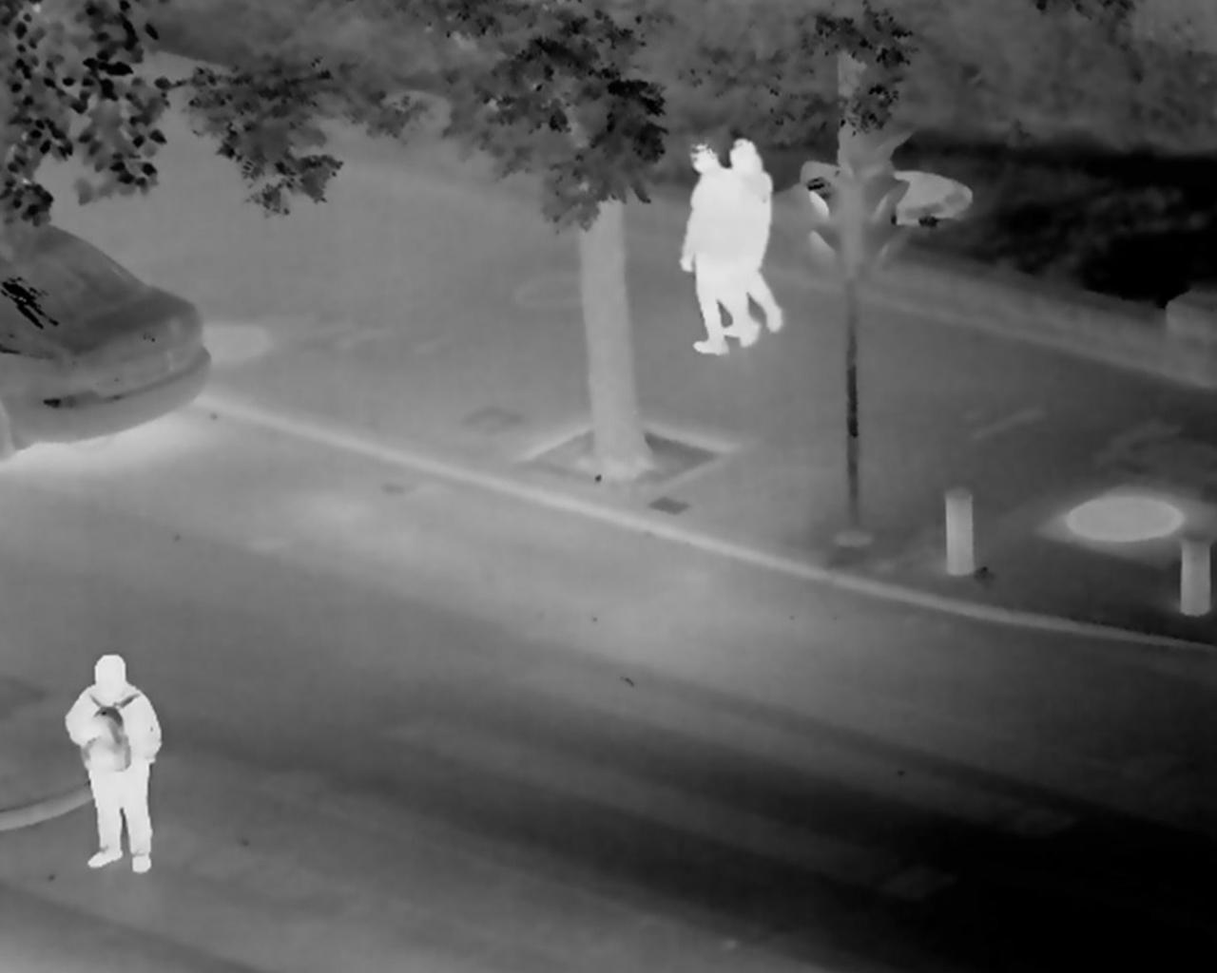person: (58, 635, 164, 875), (682, 131, 797, 340)
